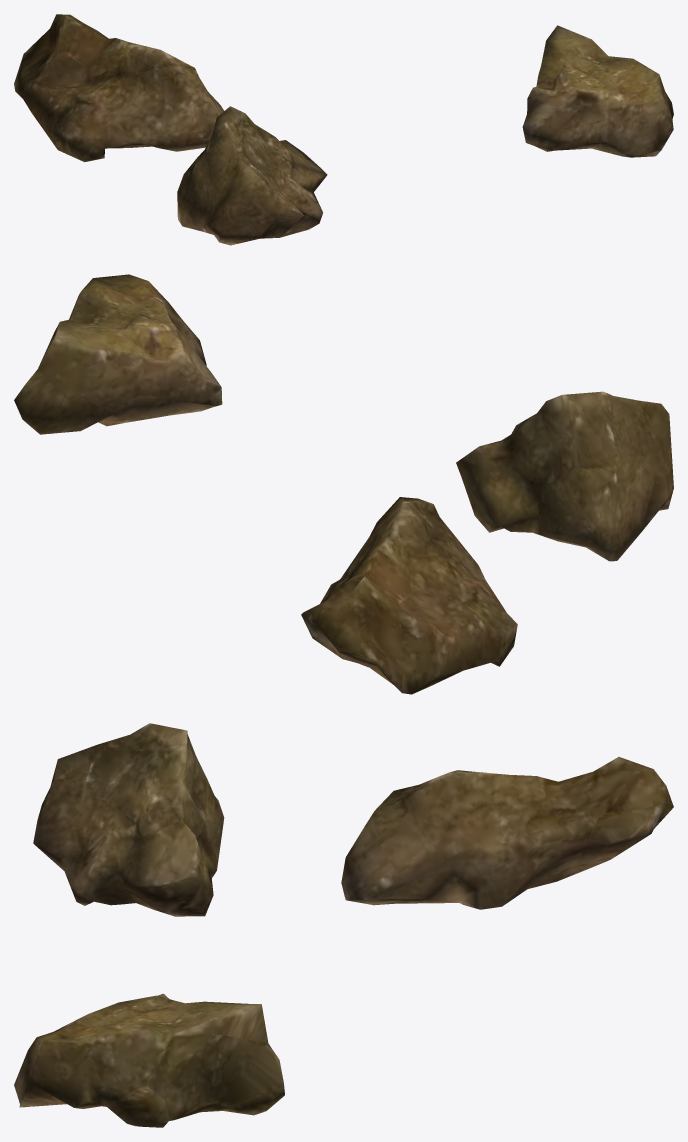
The model's file is rocks.glb.
The picture shows the model from 3 angles, top to bottom: view 1: azimuth 30°, elevation 25°; view 2: azimuth 150°, elevation 25°; view 3: azimuth 270°, elevation 25°; orthographic projection. The views are drawn at different scales.
Parts seen in each view (by area): view 1: rock_moss_set_01_rock01, rock_moss_set_01_rock06, rock_moss_set_01_rock04; view 2: rock_moss_set_01_rock04, rock_moss_set_01_rock01, rock_moss_set_01_rock06; view 3: rock_moss_set_01_rock01, rock_moss_set_01_rock04, rock_moss_set_01_rock06.
Boxes of the visible parts, box(x1,y1,x2,y2) form: rock_moss_set_01_rock01: box(14, 14, 223, 162); rock_moss_set_01_rock06: box(522, 25, 673, 157); rock_moss_set_01_rock04: box(177, 106, 327, 245); rock_moss_set_01_rock04: box(456, 391, 673, 561); rock_moss_set_01_rock01: box(301, 497, 517, 694); rock_moss_set_01_rock06: box(14, 274, 222, 434); rock_moss_set_01_rock01: box(341, 757, 673, 909); rock_moss_set_01_rock04: box(33, 723, 224, 916); rock_moss_set_01_rock06: box(14, 993, 284, 1127).
Bounding box in the file's own units: 7.62 × 1.76 × 6.66.
Materials: 1 (1 with a texture image).
